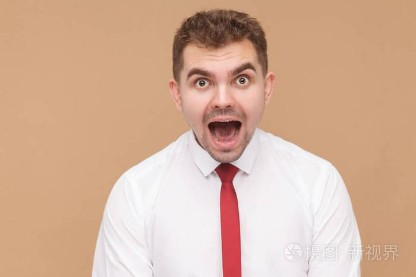张嘴: (200, 111, 248, 155)
